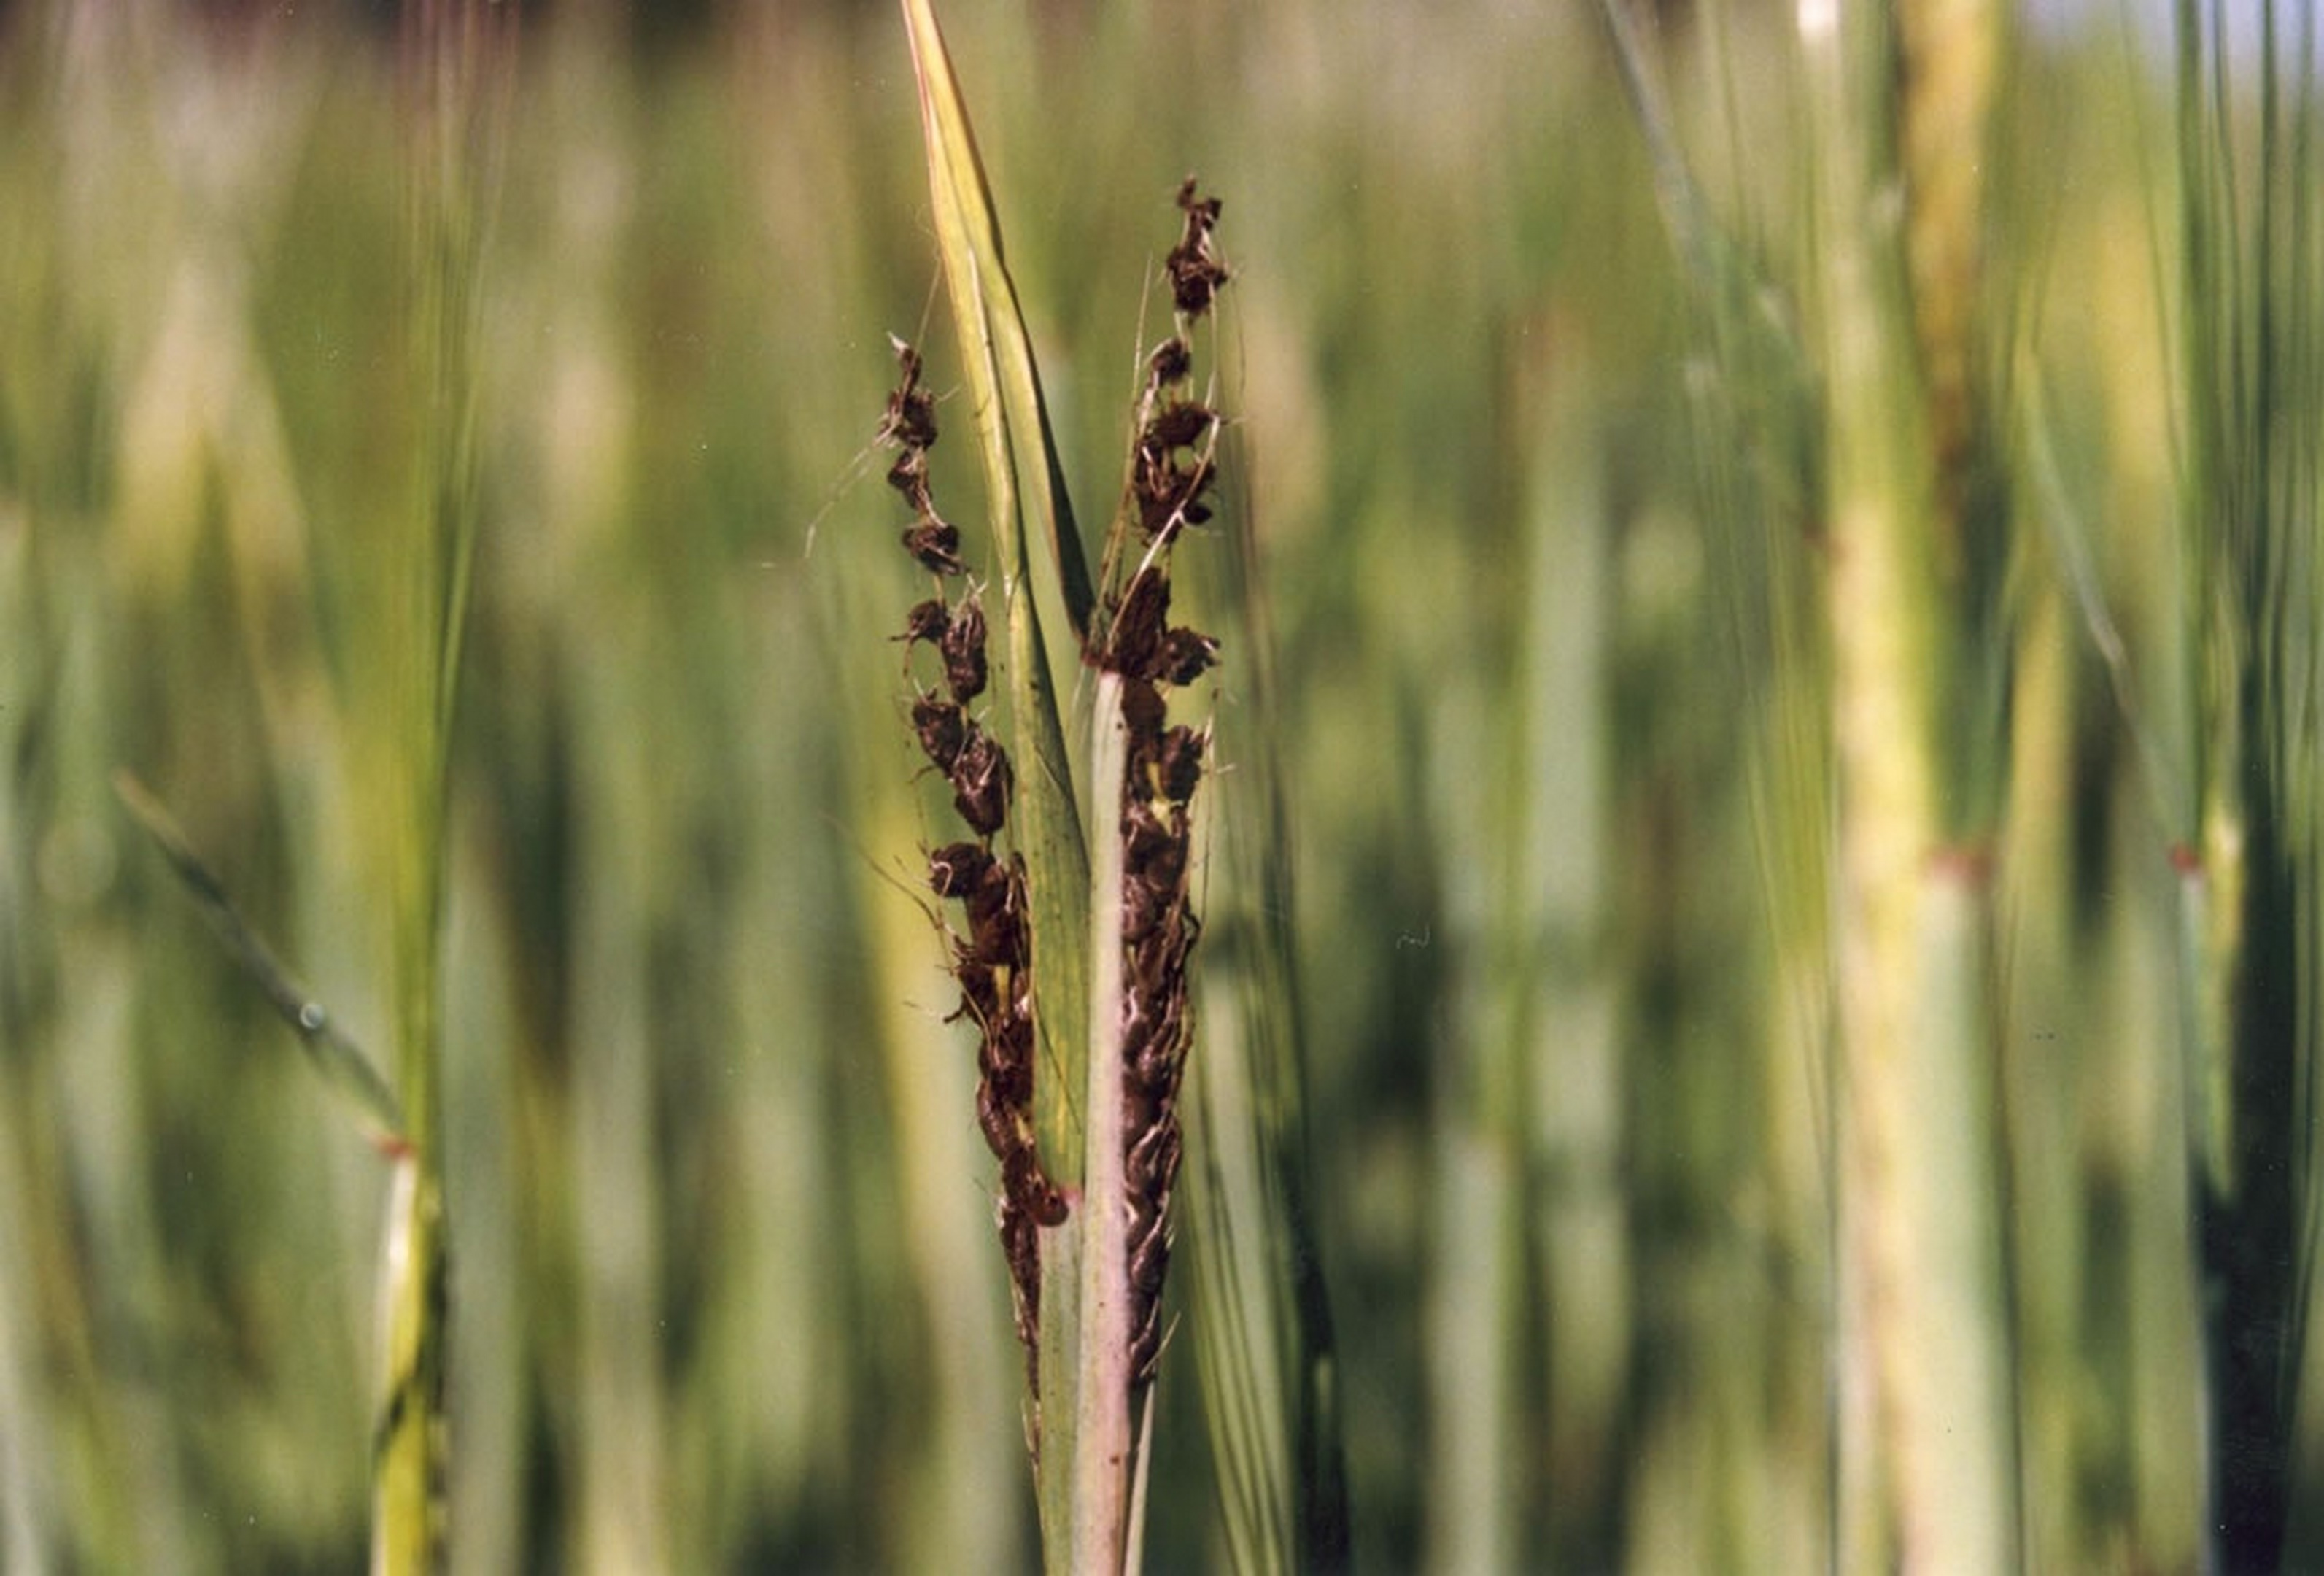Wheat Loose Smut: (835, 329, 1280, 1367)
